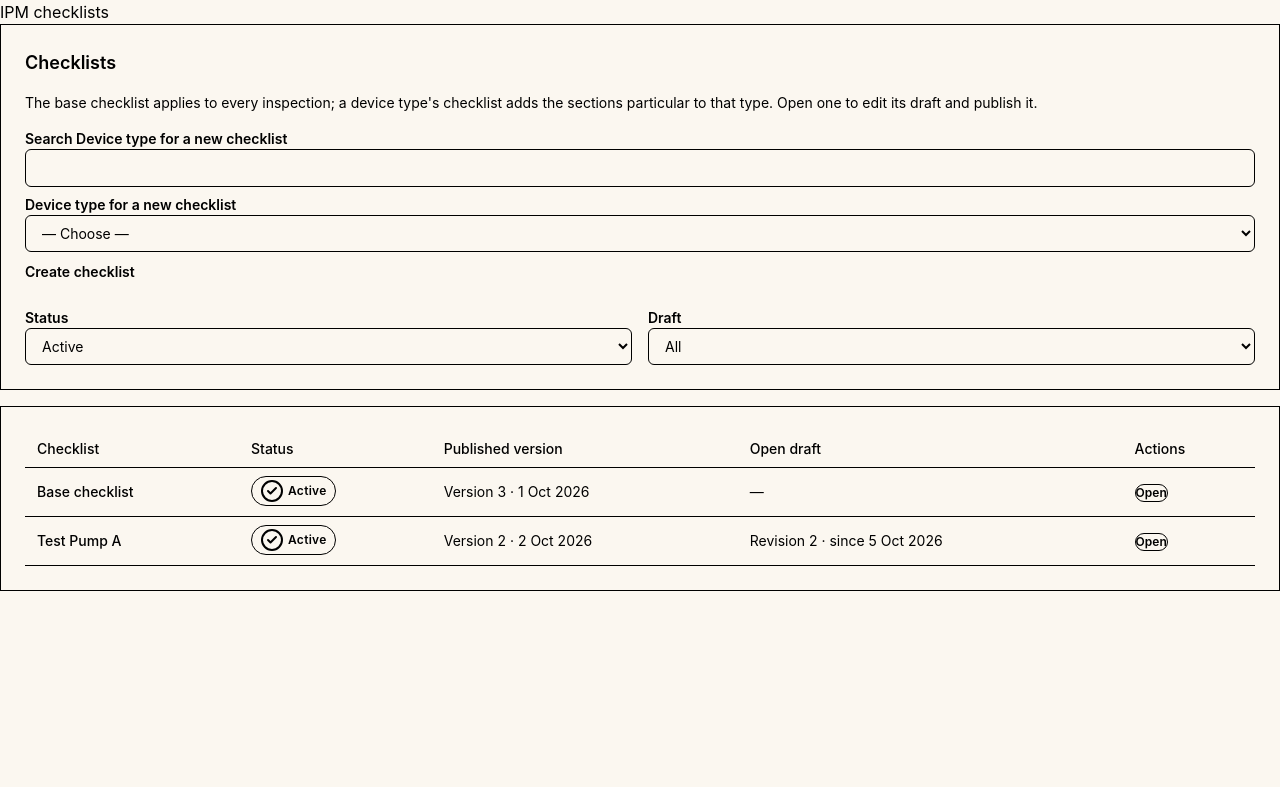
P22-01 — the operator's checklists › a publish refused with the problems shows them as written and keeps the draft
Click the button with aria-label "Open Test Pump A" at (1151,542), box [1135,533,1168,551]
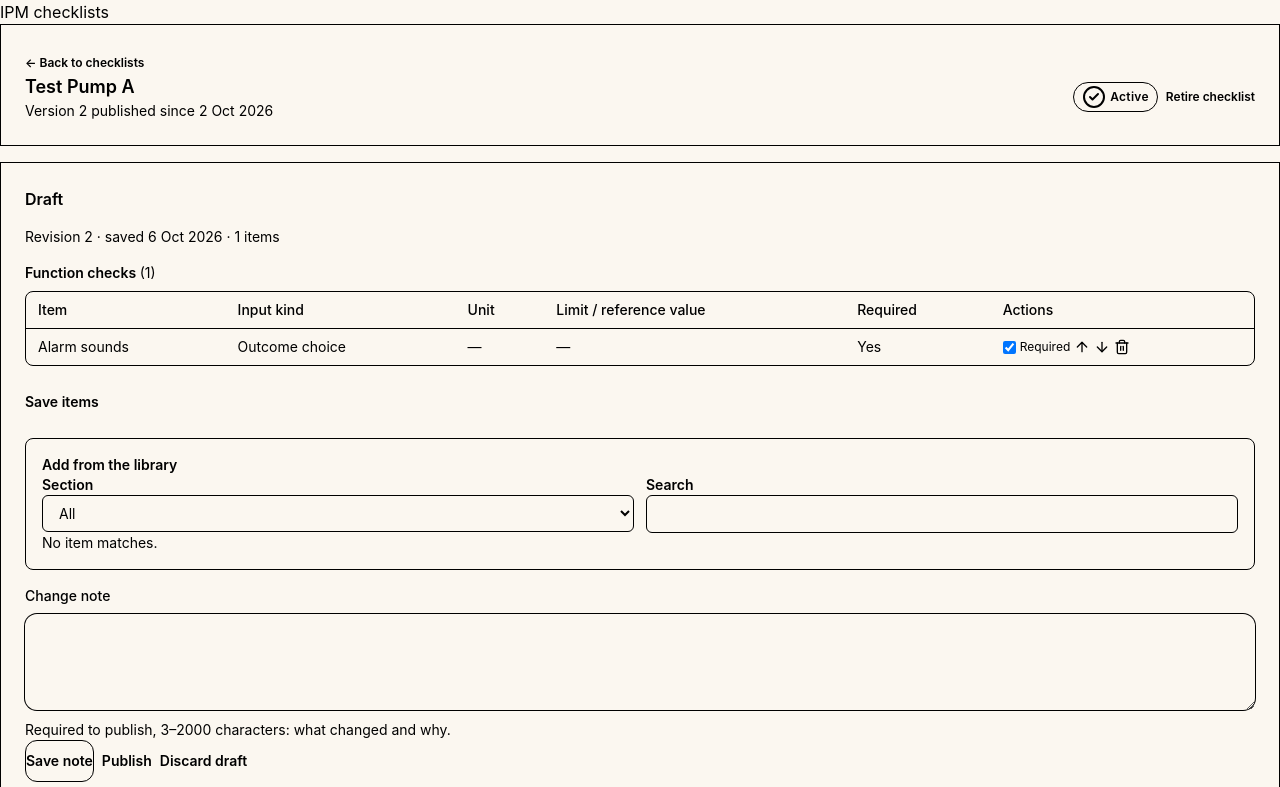
Type "Try" into the text box labelled "Change note" at (640,662), box [25,614,1255,710]
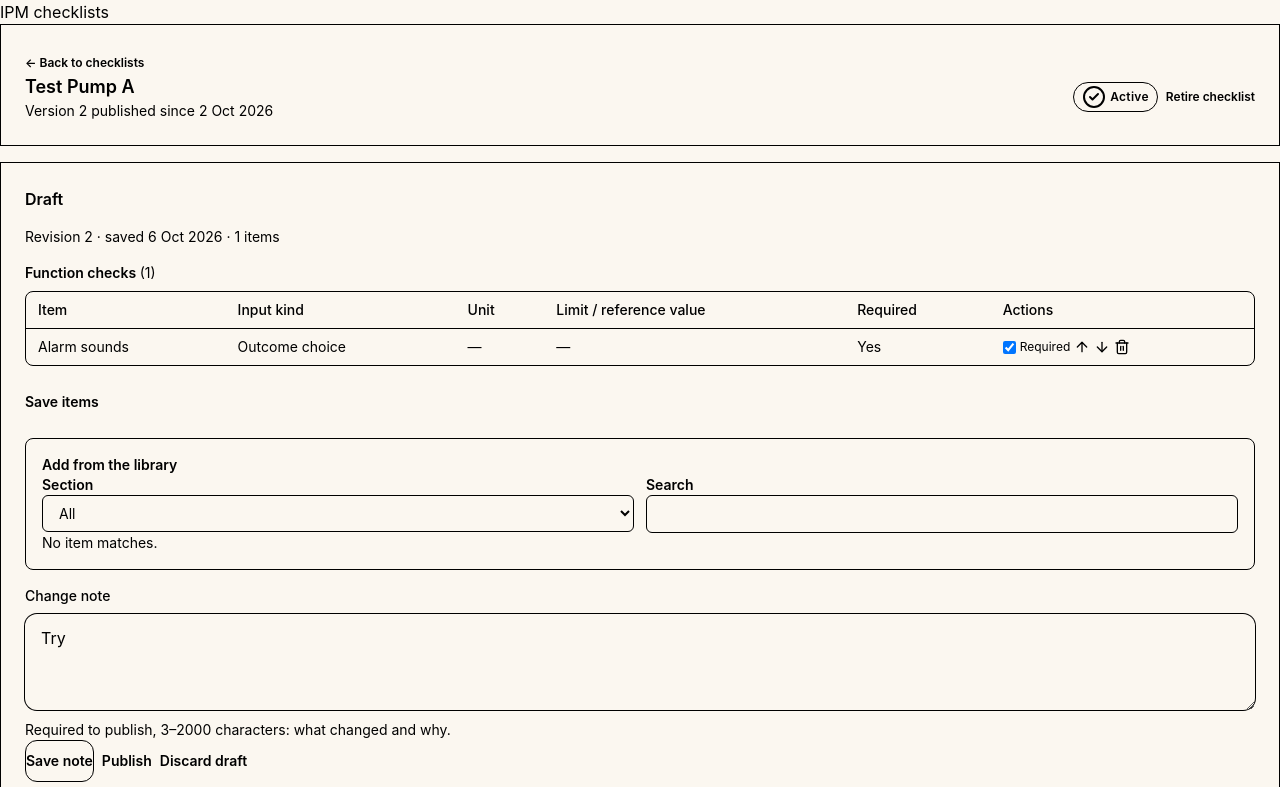
Click the button "Publish" at (127,761), box [102,740,152,782]
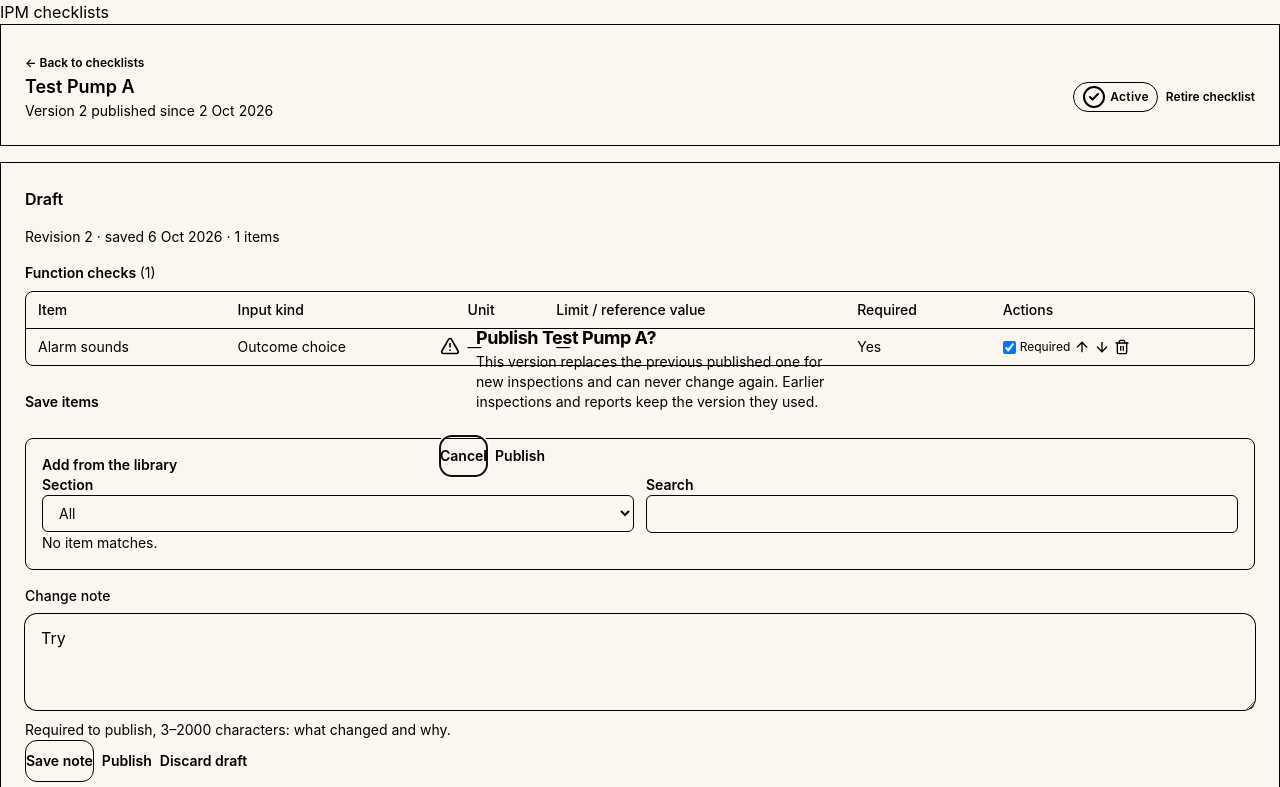
Click the button "Publish" at (520,456), box [495,436,545,476]
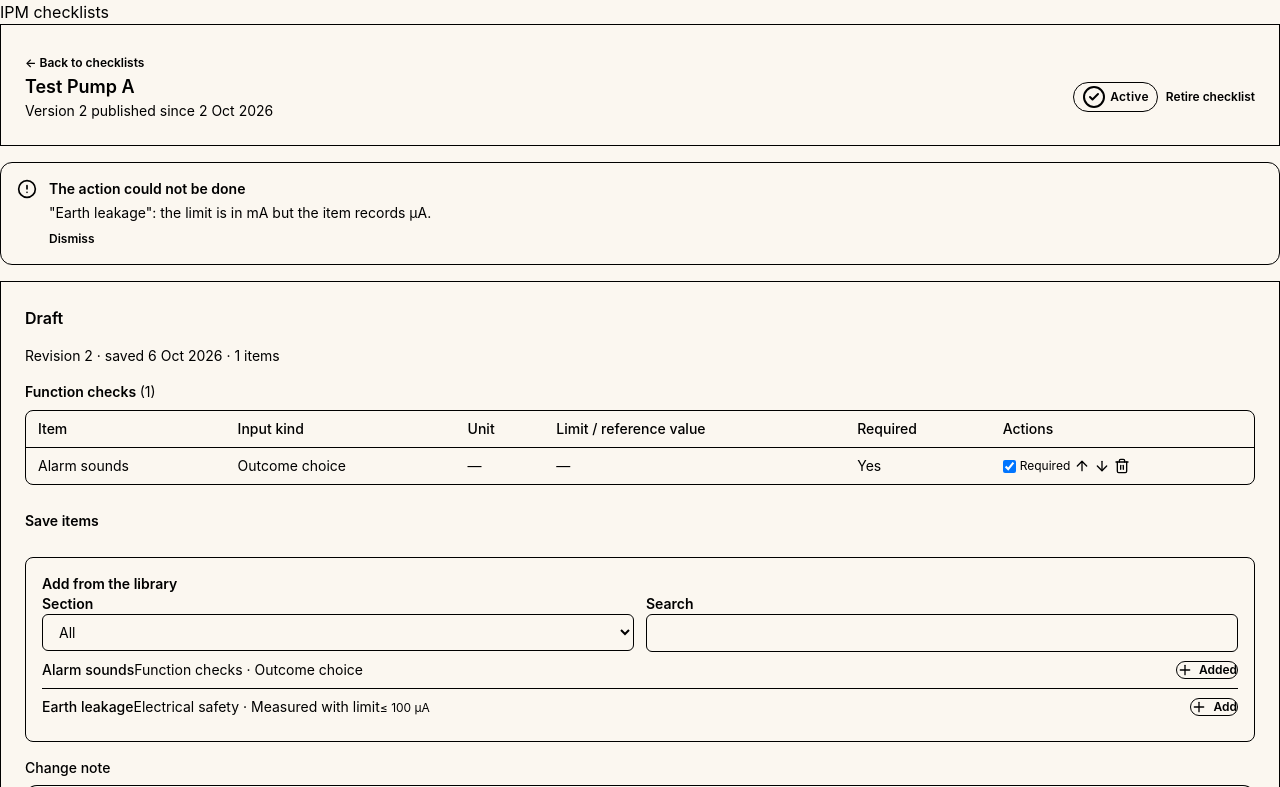
Now the element "Function checks" is shown, box [25,382,1255,485]
Now the text "\"Earth leakage\": the limit is in mA but the item records µA." is shown, box [49,204,431,221]
